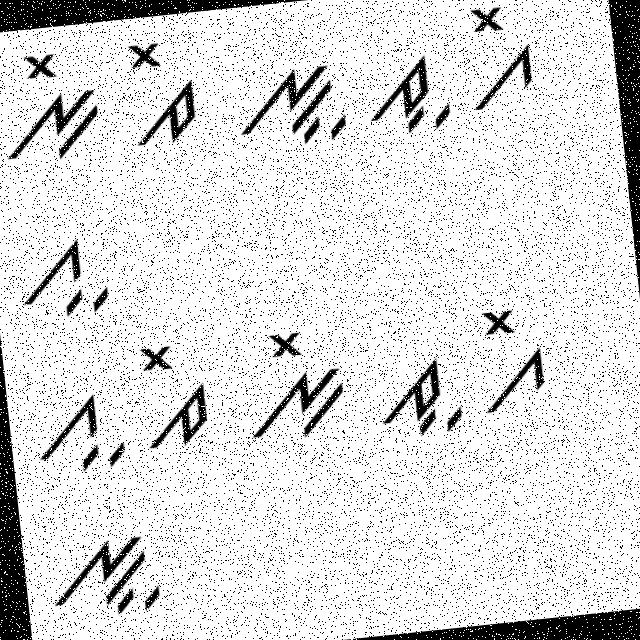gah: (6, 218, 122, 328), (24, 372, 128, 477)
go: (463, 296, 556, 418), (457, 0, 542, 114)
ngah: (38, 522, 168, 634), (228, 49, 350, 154)
ngo: (0, 41, 111, 172), (242, 317, 352, 444)
tah: (372, 351, 472, 446), (354, 46, 456, 138)
to: (125, 331, 218, 456), (120, 30, 205, 154)
